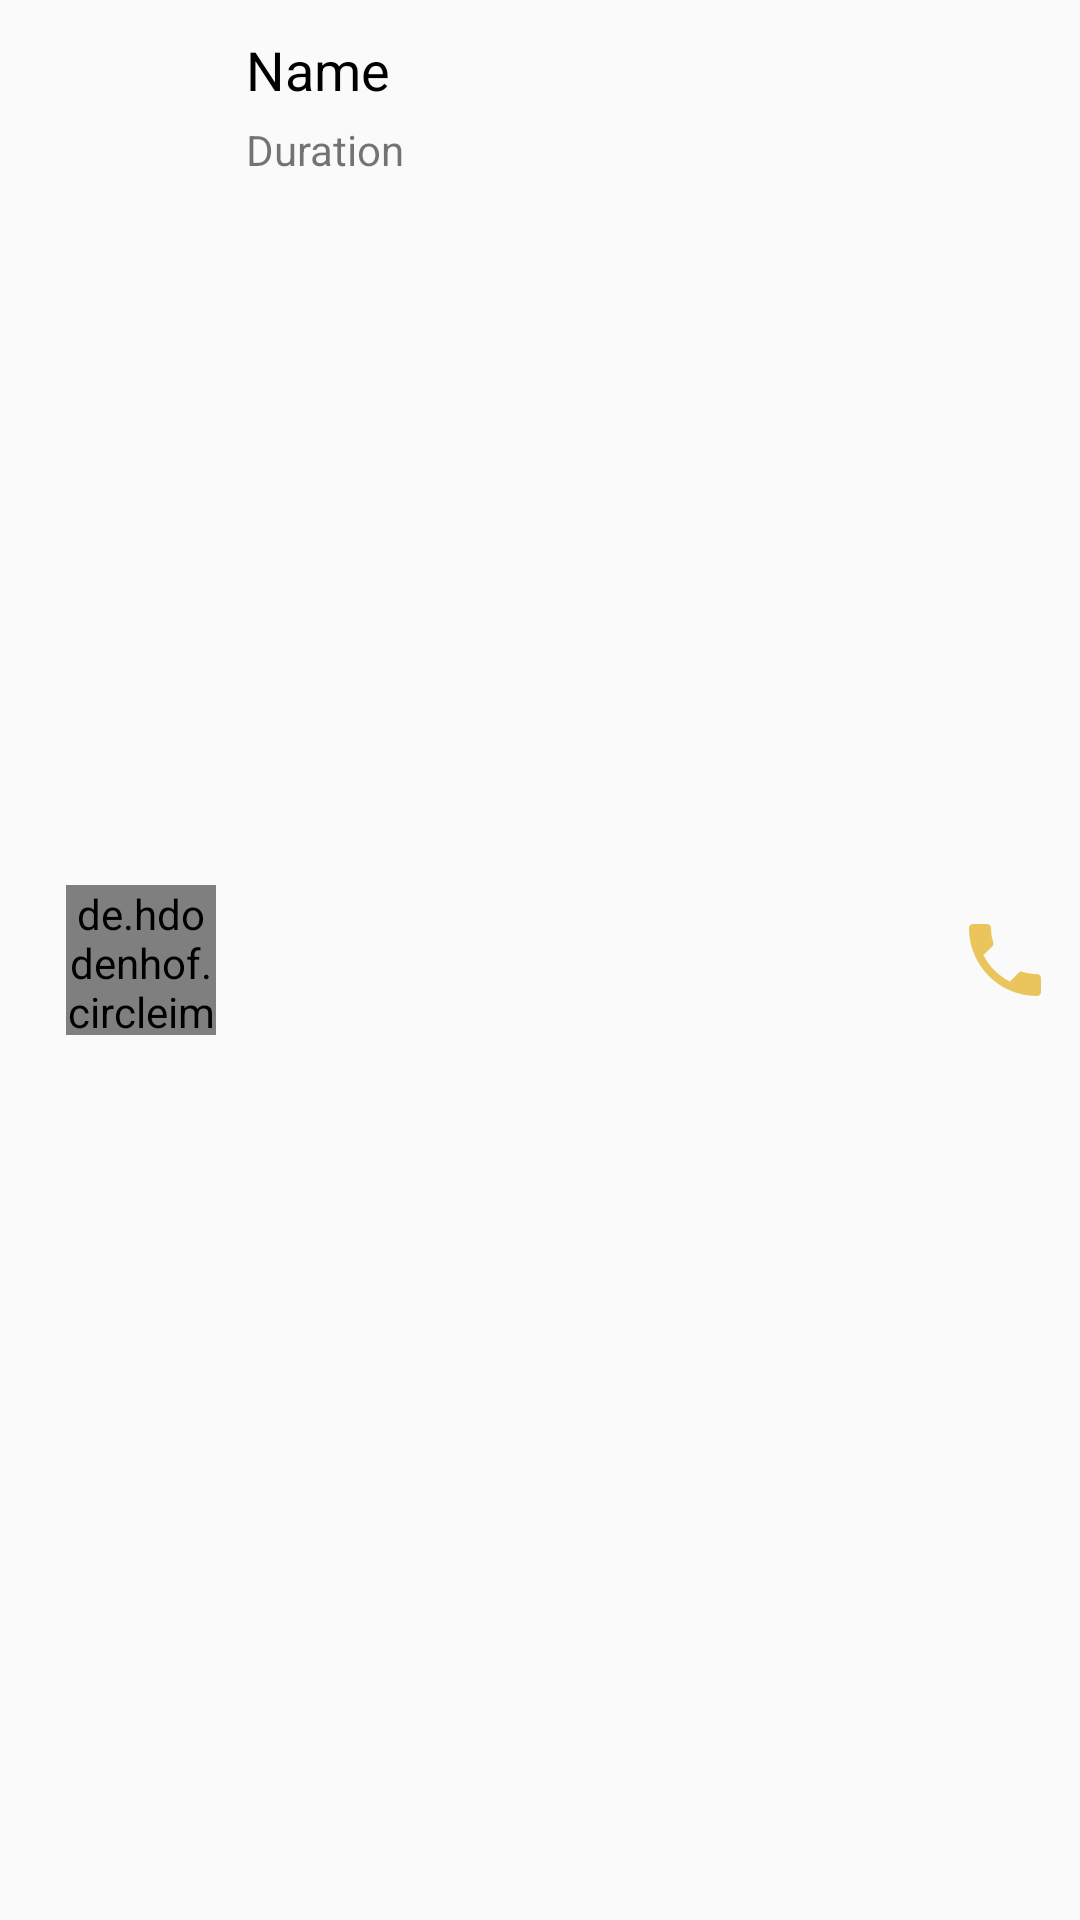

Locate icon controls on the screen. Image size 1080 × 1920, boxes as [x1, y1, x2, y2].
call: [969, 924, 1041, 996]
